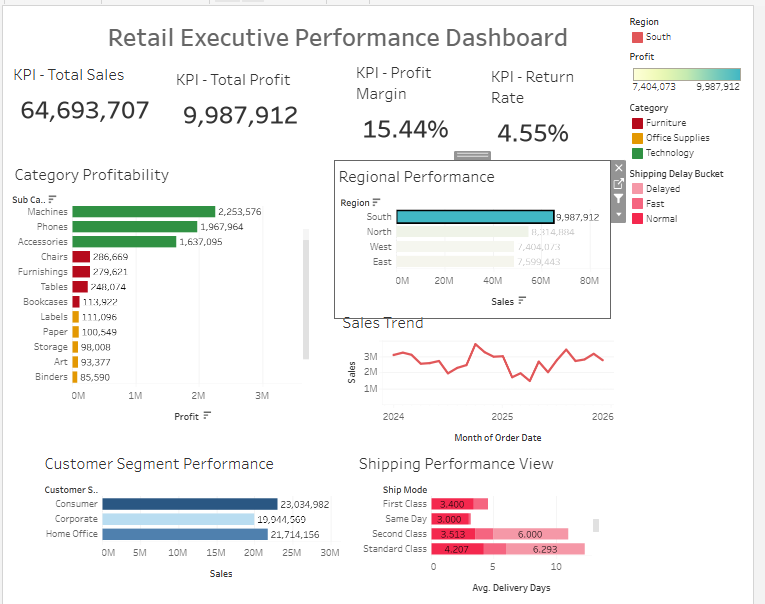

The dashboard page shown, as its layout file describes it:
{"tool":"tableau","page":{"name":"Executive Dashboard","canvas":[1000,800],"ordinal":0},"visuals":[{"type":"legend","title":"Sales Trend","param":"[federated.1c6domg1yl0bqo14c9nxk1163s6v].[none:region:nk]","box":[832,8,160,107]},{"type":"worksheet","title":"KPI - Profit Margin","mark":"Automatic","box":[467,69,333,143]},{"type":"worksheet","title":"KPI - Total Sales","mark":"Automatic","box":[10,71,246,143]},{"type":"worksheet","title":"KPI - Return Rate","mark":"Automatic","box":[647,74,333,143]},{"type":"worksheet","title":"KPI - Total Profit","mark":"Automatic","box":[227,78,333,143]},{"type":"legend","title":"Regional Performance View","param":"[federated.1c6domg1yl0bqo14c9nxk1163s6v].[sum:profit:qk]","box":[832,115,160,68]},{"type":"legend","title":"Category Profitability","param":"[federated.1c6domg1yl0bqo14c9nxk1163s6v].[none:category:nk]","box":[832,183,160,87]},{"type":"worksheet","title":"Category Profitability","mark":"Automatic","rows":["sub_category"],"cols":["profit"],"box":[12,204,405,356]},{"type":"worksheet","title":"Regional Performance View","mark":"Automatic","rows":["region"],"cols":["sales"],"box":[444,207,366,209]},{"type":"legend","title":"Shipping Performance View","param":"[federated.1c6domg1yl0bqo14c9nxk1163s6v].[none:Calculation_0014104976379909:nk]","box":[832,270,160,87]},{"type":"worksheet","title":"Sales Trend","mark":"Automatic","rows":["sales"],"cols":["order_date"],"box":[449,402,366,186]},{"type":"worksheet","title":"Customer Segment Performance","mark":"Automatic","rows":["customer_segment"],"cols":["sales"],"box":[52,590,399,207]},{"type":"worksheet","title":"Shipping Performance View","mark":"Automatic","rows":["ship_mode"],"cols":["delivery_days"],"box":[471,590,333,199]}]}

Visuals, with their boxes in screenshot pixels (x1, y1, x2, y2), scaled from the page's 1000x800 canvas onto the 765x604 screenshot:
"Sales Trend" legend: 636:6:759:87
"KPI - Profit Margin" worksheet: 357:52:612:160
"KPI - Total Sales" worksheet: 8:54:196:162
"KPI - Return Rate" worksheet: 495:56:750:164
"KPI - Total Profit" worksheet: 174:59:428:167
"Regional Performance View" legend: 636:87:759:138
"Category Profitability" legend: 636:138:759:204
"Category Profitability" worksheet: 9:154:319:423
"Regional Performance View" worksheet: 340:156:620:314
"Shipping Performance View" legend: 636:204:759:270
"Sales Trend" worksheet: 343:304:623:444
"Customer Segment Performance" worksheet: 40:445:345:602
"Shipping Performance View" worksheet: 360:445:615:596
